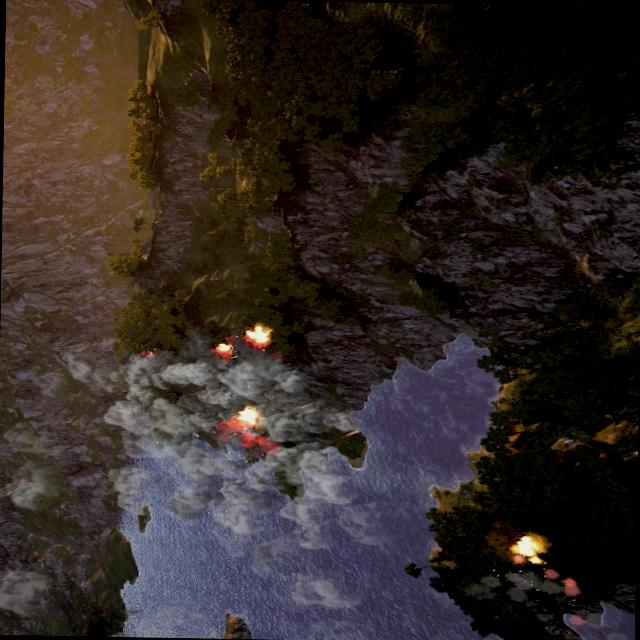fire: (511, 532, 544, 562), (244, 324, 272, 346), (232, 406, 260, 426), (214, 341, 233, 357), (140, 348, 158, 356)
smoke: (90, 342, 355, 538), (468, 563, 586, 600), (288, 572, 362, 611), (0, 566, 51, 616), (8, 468, 52, 508), (561, 578, 579, 594)
